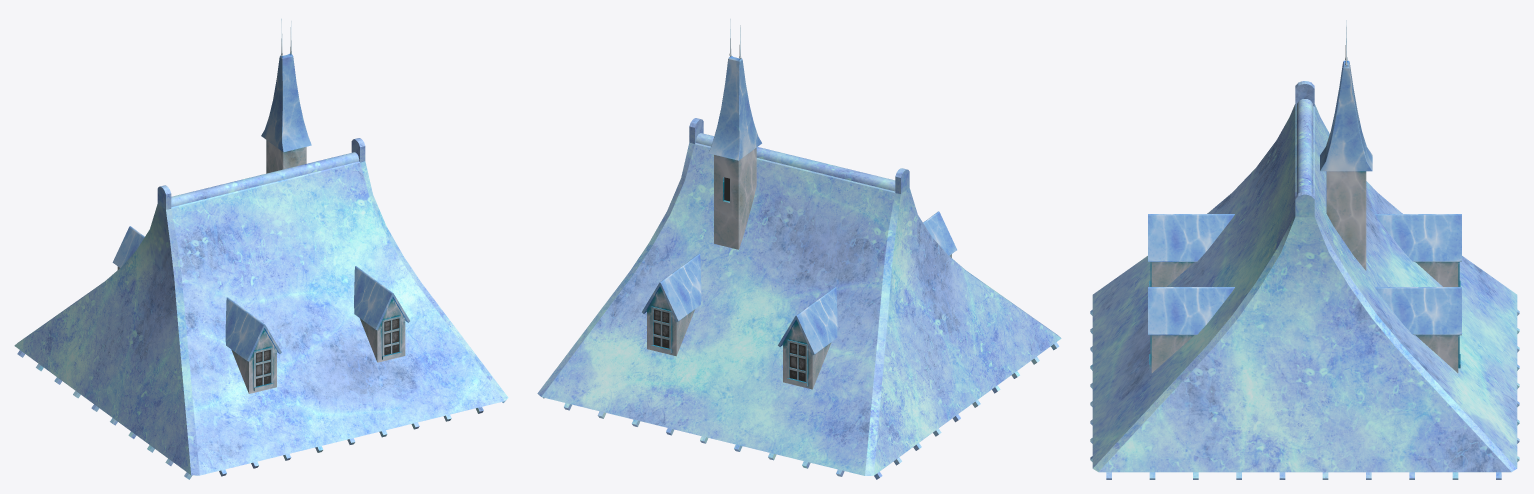
File: sb_obj_outdoor023_IceCastle01_roof01.fbx
3 views of the same model, side by side, from view 1: azimuth 30°, elevation 25°; view 2: azimuth 150°, elevation 25°; view 3: azimuth 270°, elevation 25° (orthographic). The views are drawn at different scales.
Visible parts, largest first — view 1: sb_obj_outdoor023_IceCastle01_roof01; view 2: sb_obj_outdoor023_IceCastle01_roof01; view 3: sb_obj_outdoor023_IceCastle01_roof01.
Boxes of the visible parts, bbox=[...] form: sb_obj_outdoor023_IceCastle01_roof01: bbox=[14, 19, 508, 479]; sb_obj_outdoor023_IceCastle01_roof01: bbox=[537, 19, 1061, 479]; sb_obj_outdoor023_IceCastle01_roof01: bbox=[1090, 20, 1519, 479].
Size of the model in its own units: 9.98 by 10.15 by 9.92.
